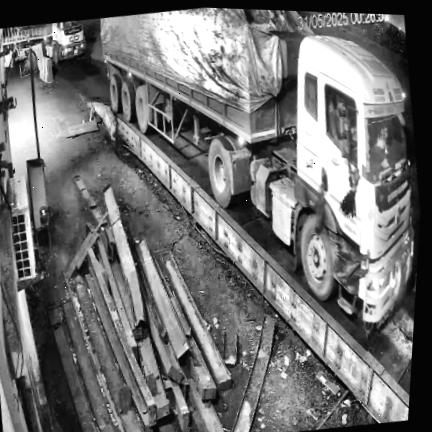tyre: (300, 215, 334, 301), (208, 138, 232, 208), (136, 85, 150, 133), (122, 80, 136, 122), (110, 74, 122, 113)
